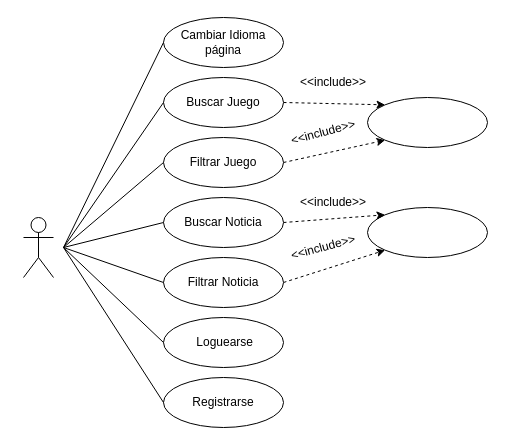
Some shapes in this 505 by 445 pixel diagram are drawn without their labels. Each missing label, with the centre of its shape:
Invitado: point 38,247
Leer Noticia: point 427,232
Ver Ficha Juego: point 427,122
